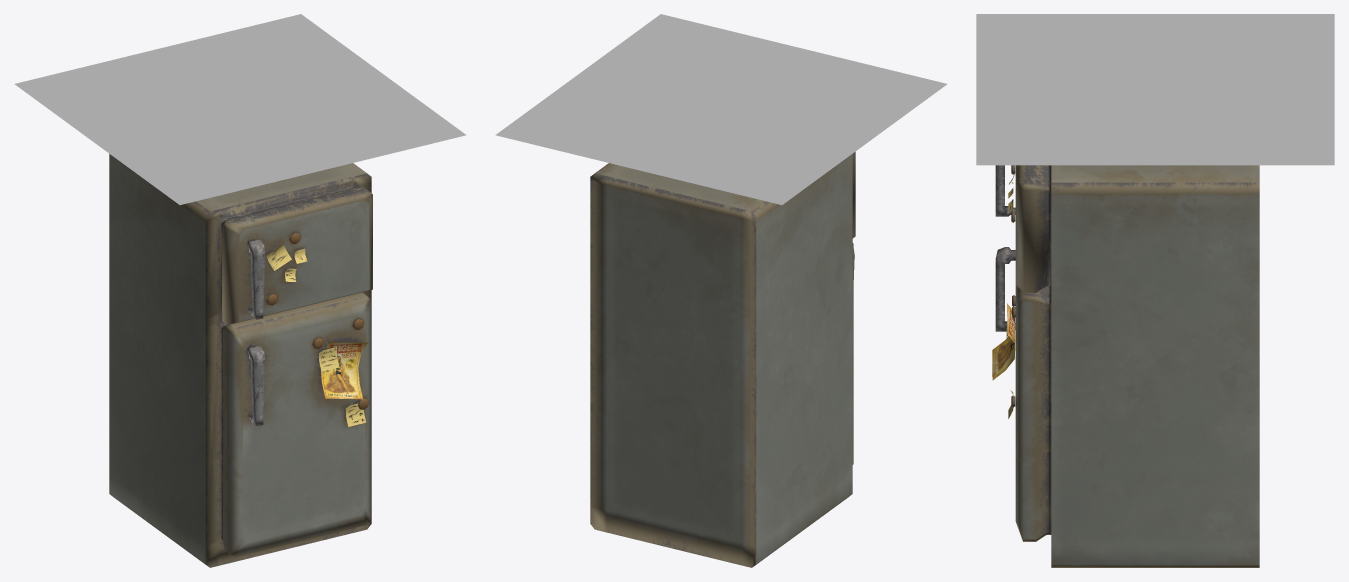
File: fridge.fbx
3 renders of one model, left to right at view 1: azimuth 30°, elevation 25°; view 2: azimuth 150°, elevation 25°; view 3: azimuth 270°, elevation 25°, orthographic. The views are drawn at different scales.
Parts seen in each view (by area): view 1: fridge, cloth, paper; view 2: fridge, cloth; view 3: fridge, cloth, paper.
Boxes of the visible parts, box(x1,y1,x2,y2) form: fridge: box(109, 154, 372, 567); cloth: box(14, 14, 466, 204); paper: box(320, 341, 367, 399); fridge: box(590, 151, 855, 567); cloth: box(495, 14, 947, 204); fridge: box(995, 165, 1259, 567); cloth: box(976, 14, 1334, 165); paper: box(992, 303, 1015, 380).
Size of the model in its own units: 17.95 by 24.15 by 17.95.
Materials: 2 (1 with a texture image).
